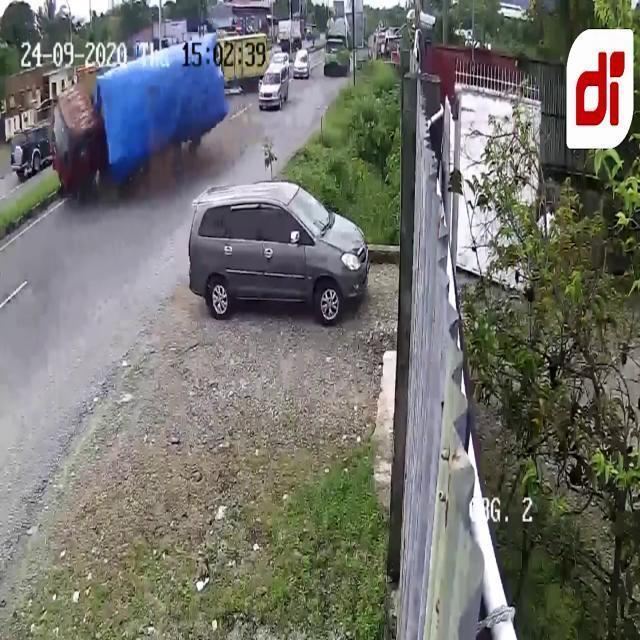accident: (52, 40, 226, 200)
non-accident: (258, 51, 290, 111)
